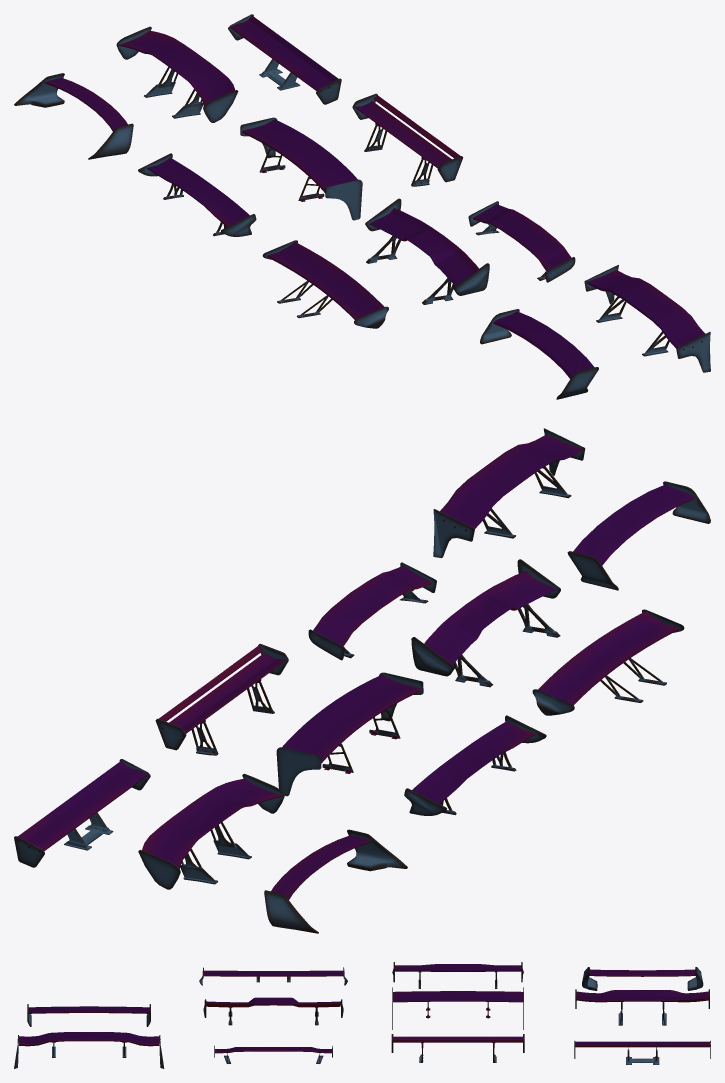
The picture shows the model from 3 angles, top to bottom: view 1: azimuth 30°, elevation 25°; view 2: azimuth 150°, elevation 25°; view 3: azimuth 270°, elevation 25°; orthographic projection. The views are drawn at different scales.
Parts seen in each view (by area): view 1: Spoiler04_SpoilersShader_0, Spoiler05_SpoilersShader_0, Spoiler015_SpoilersShader_0, Spoiler07_SpoilersShader_0, Spoiler011_SpoilersShader_0, Spoiler01_SpoilersShader_0, Spoiler018_SpoilersShader_0, Spoiler08_SpoilersShader_0, Spolier10_SpoilersShader_0, Spoiler03_SpoilersShader_0, Spoiler020_SpoilersShader_0; view 2: Spoiler04_SpoilersShader_0, Spoiler05_SpoilersShader_0, Spoiler015_SpoilersShader_0, Spoiler07_SpoilersShader_0, Spoiler011_SpoilersShader_0, Spoiler01_SpoilersShader_0, Spoiler018_SpoilersShader_0, Spoiler08_SpoilersShader_0, Spolier10_SpoilersShader_0, Spoiler03_SpoilersShader_0, Spoiler020_SpoilersShader_0; view 3: Spoiler04_SpoilersShader_0, Spoiler05_SpoilersShader_0, Spoiler015_SpoilersShader_0, Spoiler01_SpoilersShader_0, Spoiler020_SpoilersShader_0, Spoiler07_SpoilersShader_0, Spolier10_SpoilersShader_0, Spoiler018_SpoilersShader_0, Spoiler011_SpoilersShader_0, Spoiler08_SpoilersShader_0, Spoiler03_SpoilersShader_0.
Part boxes in pixels (x1,y1,x2,y2): Spoiler04_SpoilersShader_0: (584, 265, 710, 372); Spoiler05_SpoilersShader_0: (116, 26, 238, 122); Spoiler015_SpoilersShader_0: (240, 117, 362, 220); Spoiler07_SpoilersShader_0: (365, 198, 489, 304); Spoiler011_SpoilersShader_0: (262, 240, 388, 328); Spoiler01_SpoilersShader_0: (228, 14, 341, 104); Spoiler018_SpoilersShader_0: (352, 93, 463, 186); Spoiler08_SpoilersShader_0: (480, 309, 598, 399); Spolier10_SpoilersShader_0: (138, 153, 256, 236); Spoiler03_SpoilersShader_0: (468, 201, 575, 282); Spoiler020_SpoilersShader_0: (14, 73, 133, 159); Spoiler04_SpoilersShader_0: (433, 428, 585, 558); Spoiler05_SpoilersShader_0: (138, 773, 284, 889); Spoiler015_SpoilersShader_0: (276, 672, 423, 796); Spoiler07_SpoilersShader_0: (411, 559, 560, 687); Spoiler011_SpoilersShader_0: (532, 609, 684, 715); Spoiler01_SpoilersShader_0: (14, 759, 150, 867); Spoiler018_SpoilersShader_0: (155, 643, 288, 755); Spoiler08_SpoilersShader_0: (567, 481, 710, 590); Spolier10_SpoilersShader_0: (404, 715, 546, 815); Spoiler03_SpoilersShader_0: (308, 562, 436, 660); Spoiler020_SpoilersShader_0: (264, 829, 407, 933); Spoiler04_SpoilersShader_0: (14, 1032, 164, 1068); Spoiler05_SpoilersShader_0: (575, 989, 709, 1025); Spoiler015_SpoilersShader_0: (392, 987, 523, 1029); Spoiler01_SpoilersShader_0: (574, 1040, 710, 1064); Spoiler020_SpoilersShader_0: (582, 967, 703, 990); Spoiler07_SpoilersShader_0: (203, 997, 343, 1025); Spolier10_SpoilersShader_0: (392, 962, 523, 988); Spoiler018_SpoilersShader_0: (391, 1034, 524, 1062); Spoiler011_SpoilersShader_0: (199, 967, 347, 985); Spoiler08_SpoilersShader_0: (27, 1004, 150, 1026); Spoiler03_SpoilersShader_0: (214, 1045, 332, 1063).
Bounding box in the file's own units: 250 × 39.65 × 756.
1 material, 1 textured.
